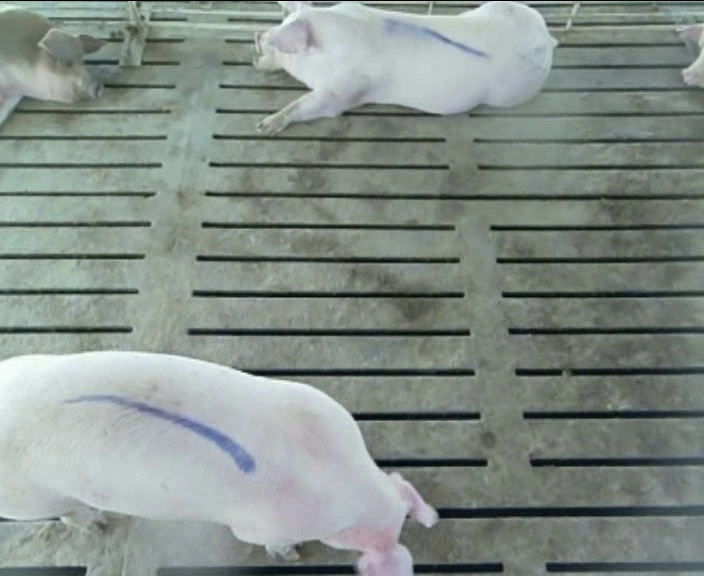pig: (254, 2, 556, 134)
